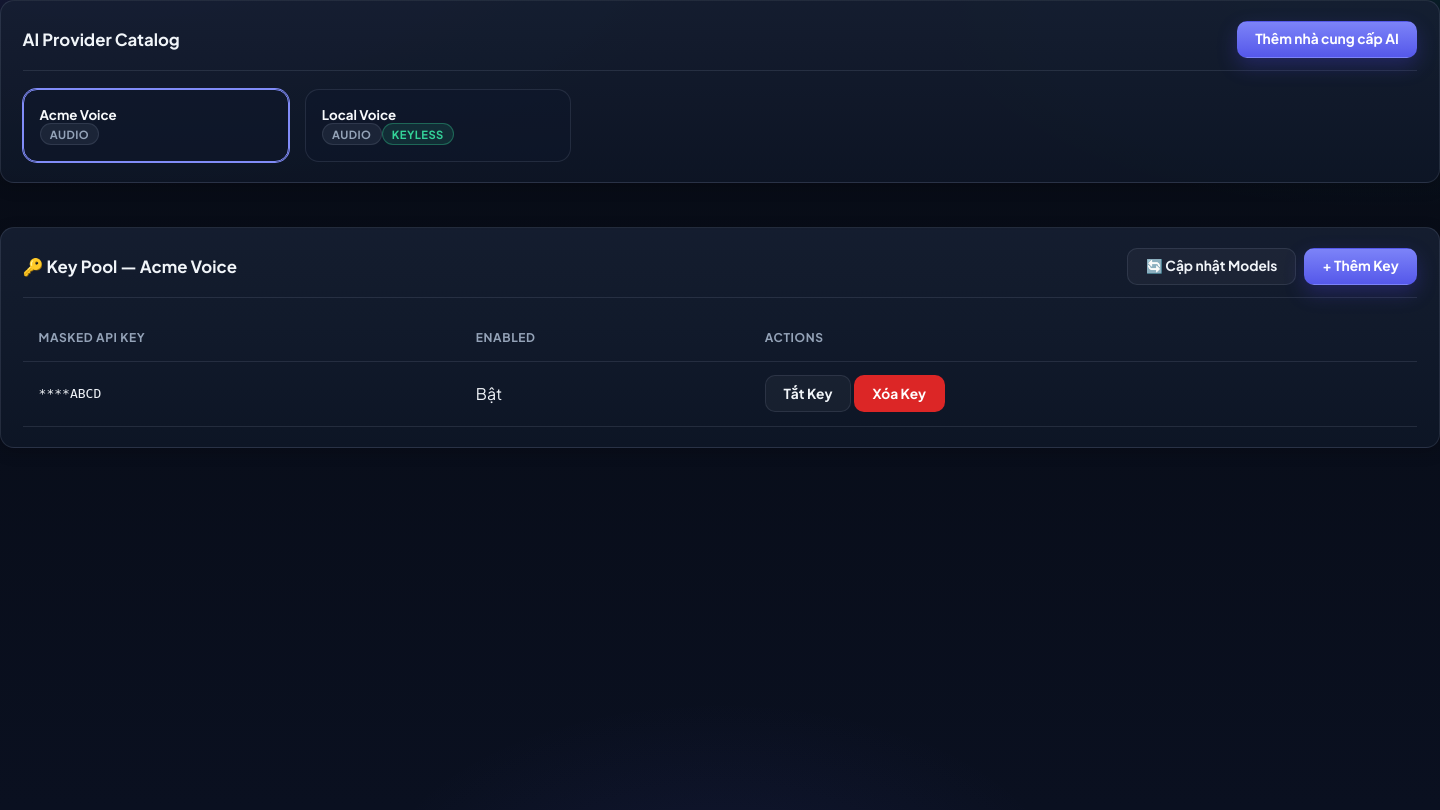
Test: shows per-provider refresh outcomes and never reports cleanup for partial or failed results
Expected: the button "Acme Voice audio" is shown, x1=23 y1=89 x2=289 y2=162
Click the button "🔄 Cập nhật Models" at {"x": 1212, "y": 266}, box x1=1127 y1=248 x2=1296 y2=285
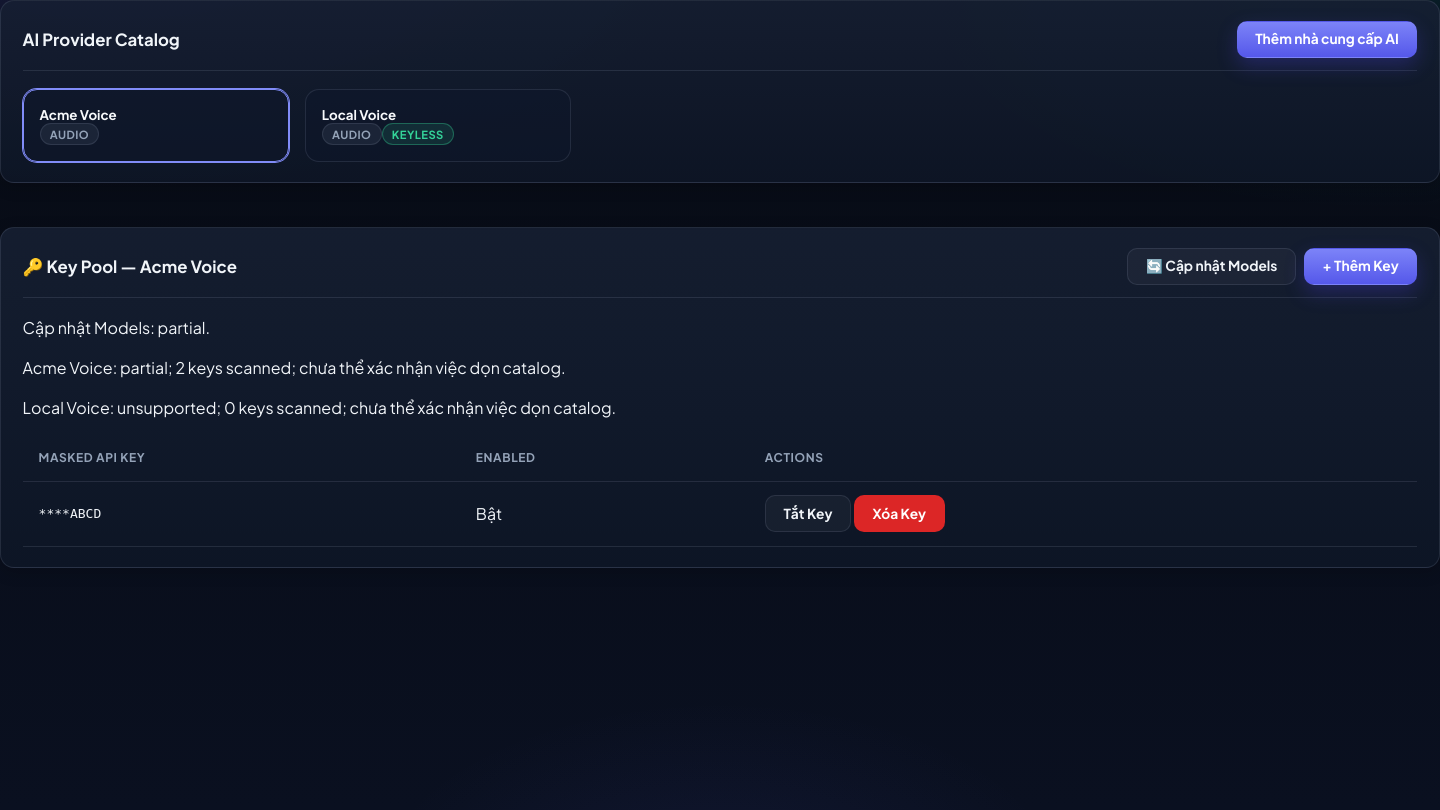
Click the button "🔄 Cập nhật Models" at {"x": 1212, "y": 266}, box x1=1127 y1=248 x2=1296 y2=285
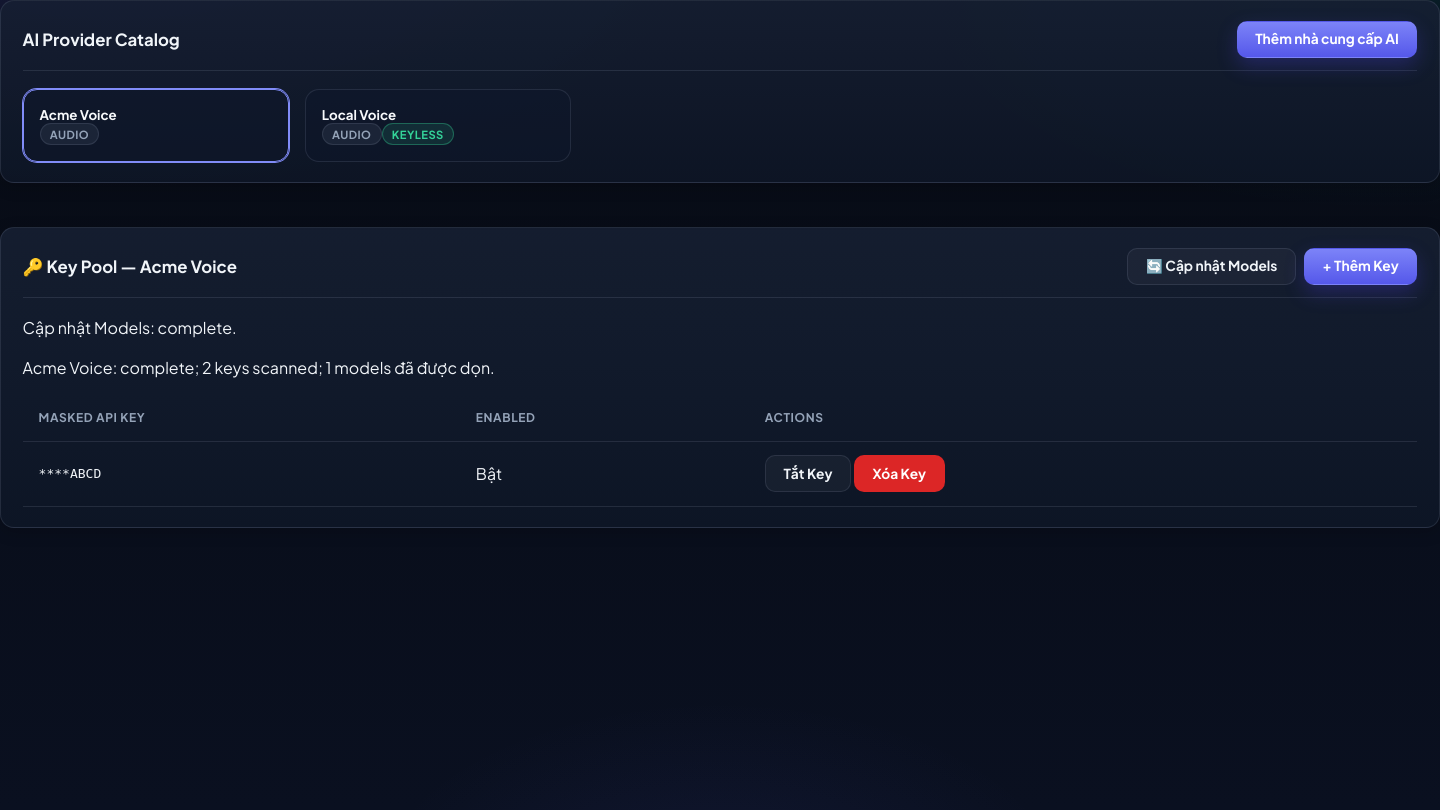
Expected: the text "Acme Voice: complete; 2 keys scanned; 1 models đã được dọn." is shown, x1=23 y1=357 x2=495 y2=378
